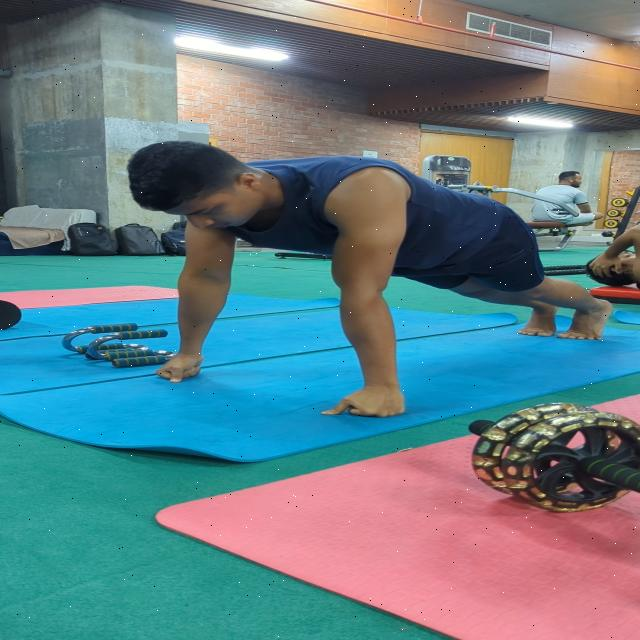Normal_PushUps: (119, 140, 616, 422)
